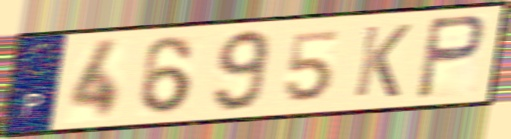4: (65, 35, 124, 125)
5: (279, 28, 343, 104)
6: (136, 33, 198, 118)
9: (210, 26, 274, 115)
K: (350, 22, 415, 100)
P: (412, 12, 488, 102)
